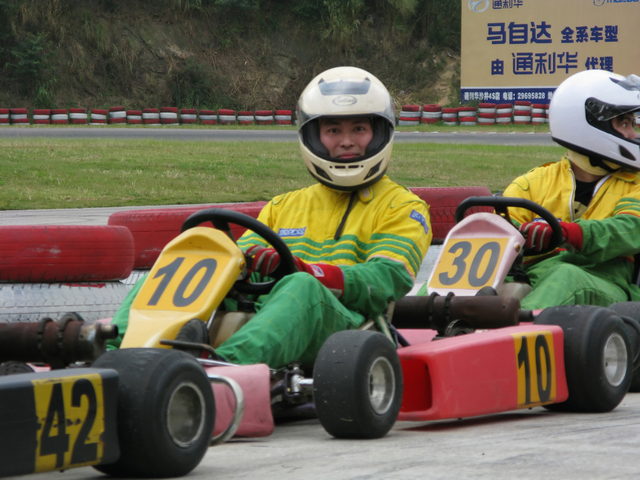helmet: (293, 68, 403, 180), (549, 72, 638, 169)
